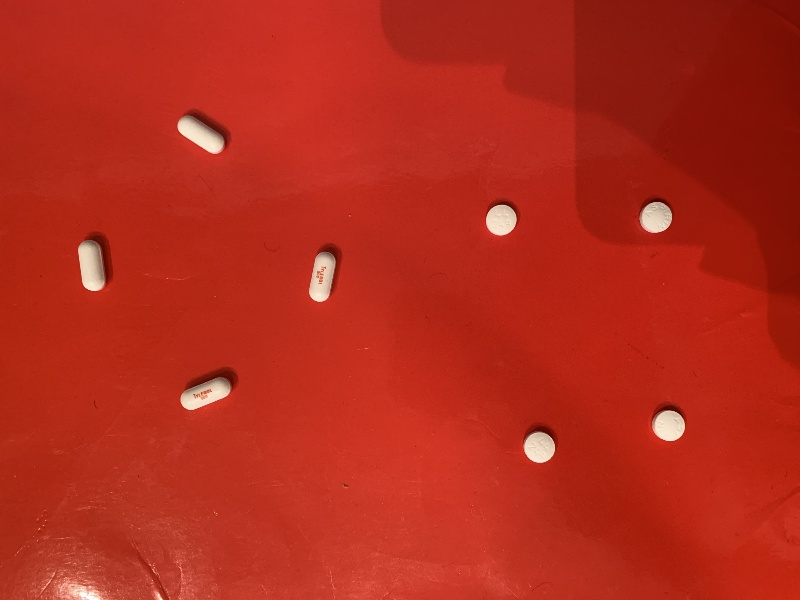Aspirin: (644, 404, 693, 448), (479, 197, 524, 241), (520, 427, 564, 470), (638, 198, 678, 236)
Tylenol: (166, 367, 240, 417), (172, 107, 229, 156), (71, 234, 115, 293), (308, 242, 342, 313)
